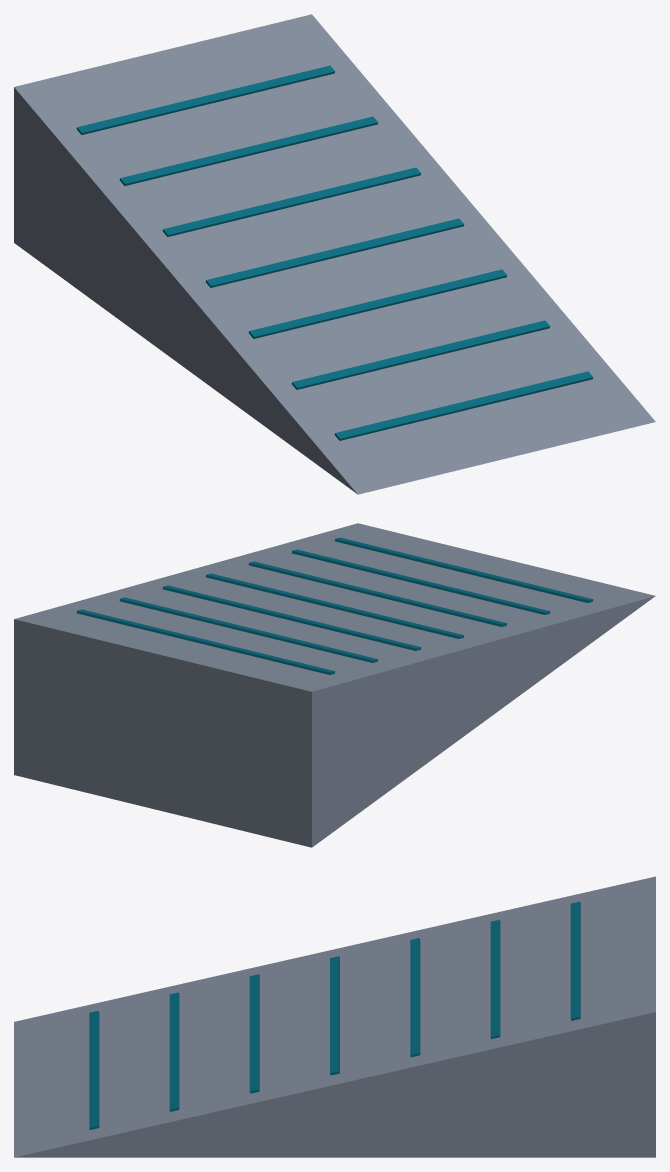
File: SM_Ramp_2x4_Rise1.glb
The picture shows the model from 3 angles, top to bottom: view 1: azimuth 30°, elevation 25°; view 2: azimuth 150°, elevation 25°; view 3: azimuth 270°, elevation 25°; orthographic projection. The views are drawn at different scales.
Parts seen in each view (by area): view 1: SM_Ramp_2x4_Rise1-col; view 2: SM_Ramp_2x4_Rise1-col; view 3: SM_Ramp_2x4_Rise1-col.
Part boxes in pixels (x1=…): SM_Ramp_2x4_Rise1-col: x1=14, y1=14, x2=655, y2=494; SM_Ramp_2x4_Rise1-col: x1=14, y1=523, x2=655, y2=847; SM_Ramp_2x4_Rise1-col: x1=14, y1=876, x2=655, y2=1157.
Bounding box in the file's own units: 2 × 1 × 4.
